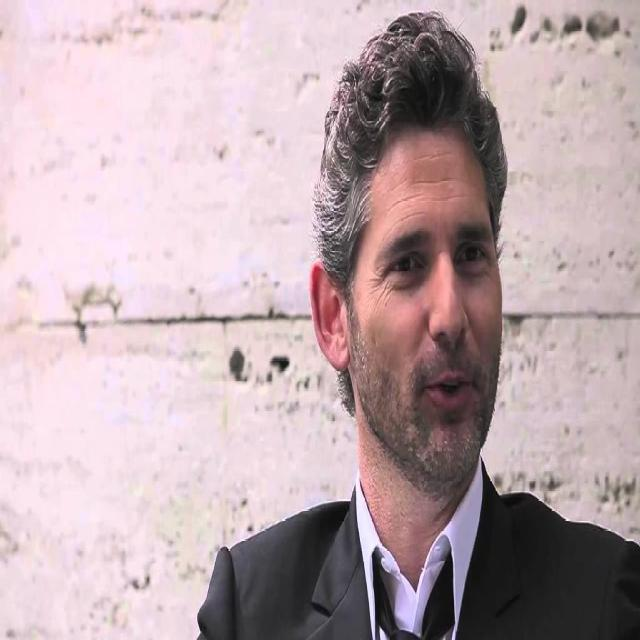Face: (349, 135, 509, 485)
